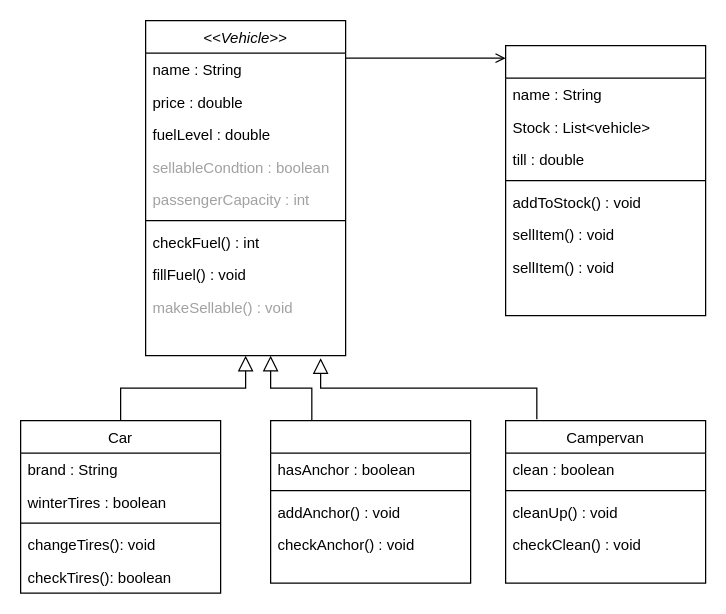
The diagram is 726 pixels wide and 614 high, and some of its shapes have lost their labels. The box of each missing label's shape, as (x1, y1, x2, y2) in pixels:
Boat: (269, 419, 471, 583)
GarageShop: (504, 44, 706, 316)
